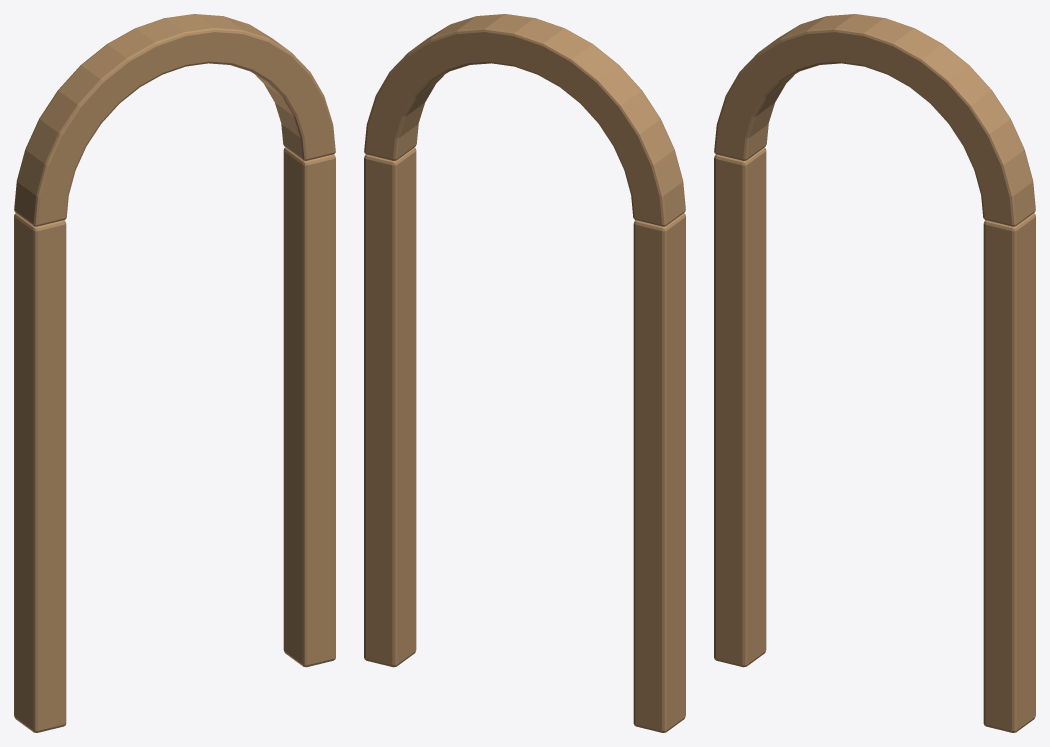
Rendered from doors__entries___window_views_asset_sheet_25_iter_0.glb.
3 renders of one model, left to right at view 1: azimuth 30°, elevation 25°; view 2: azimuth 150°, elevation 25°; view 3: azimuth 330°, elevation 25°, orthographic.
Visible parts, largest first — view 1: Cube; view 2: Cube; view 3: Cube.
Part boxes in pixels (x1,y1,x2,y2): Cube: (14,14,335,732); Cube: (364,14,685,732); Cube: (714,14,1035,732).
Size of the model in its own units: 1.1 by 2.31 by 0.14.
